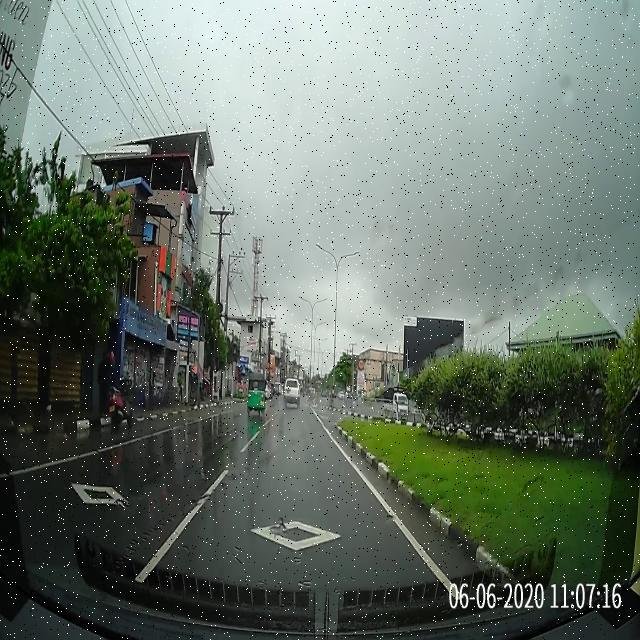diamond: (164, 514, 431, 559)
